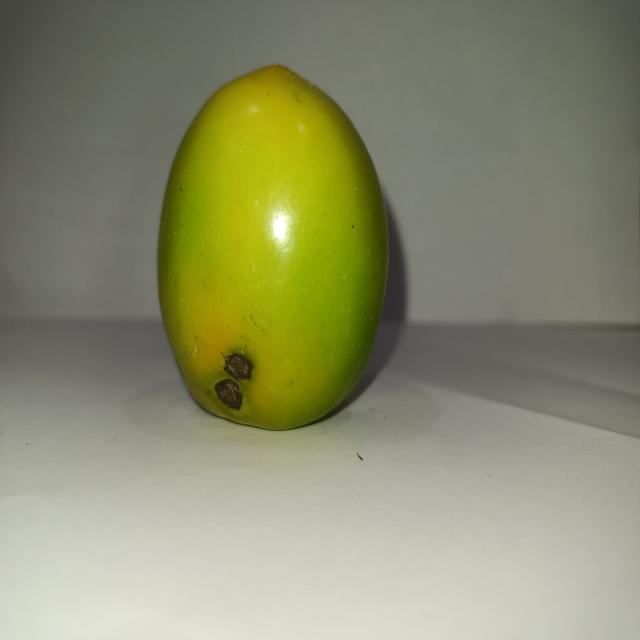Red: (155, 62, 390, 431)
